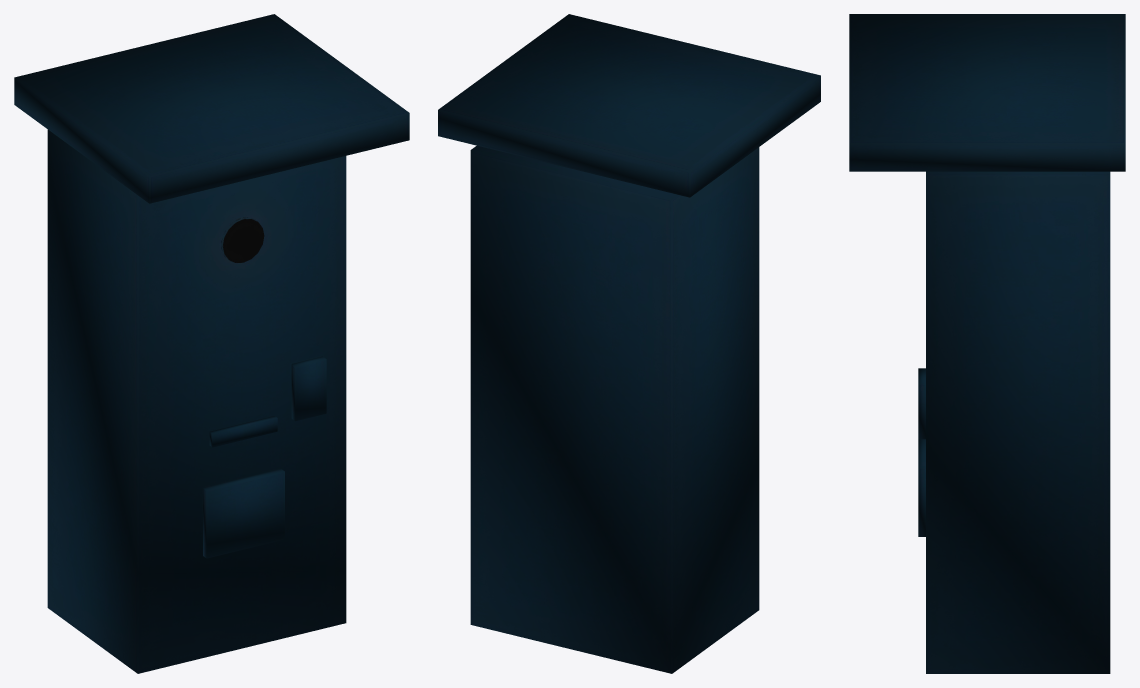
The model's file is yard-scale-kiosk-body-tripo-original.glb.
The picture shows the model from 3 angles, left to right: view 1: azimuth 30°, elevation 25°; view 2: azimuth 150°, elevation 25°; view 3: azimuth 270°, elevation 25°; orthographic projection. The views are drawn at different scales.
Visible parts, largest first — view 1: Authored_surface_030; view 2: Authored_surface_030; view 3: Authored_surface_030.
Boxes of the visible parts, left/top/right/bottom form: Authored_surface_030: left=14, top=14, right=409, bottom=673; Authored_surface_030: left=438, top=14, right=820, bottom=673; Authored_surface_030: left=849, top=14, right=1125, bottom=673.
Size of the model in its own units: 0.5128 by 1 by 0.4615.
Materials: 1 (1 with a texture image).
